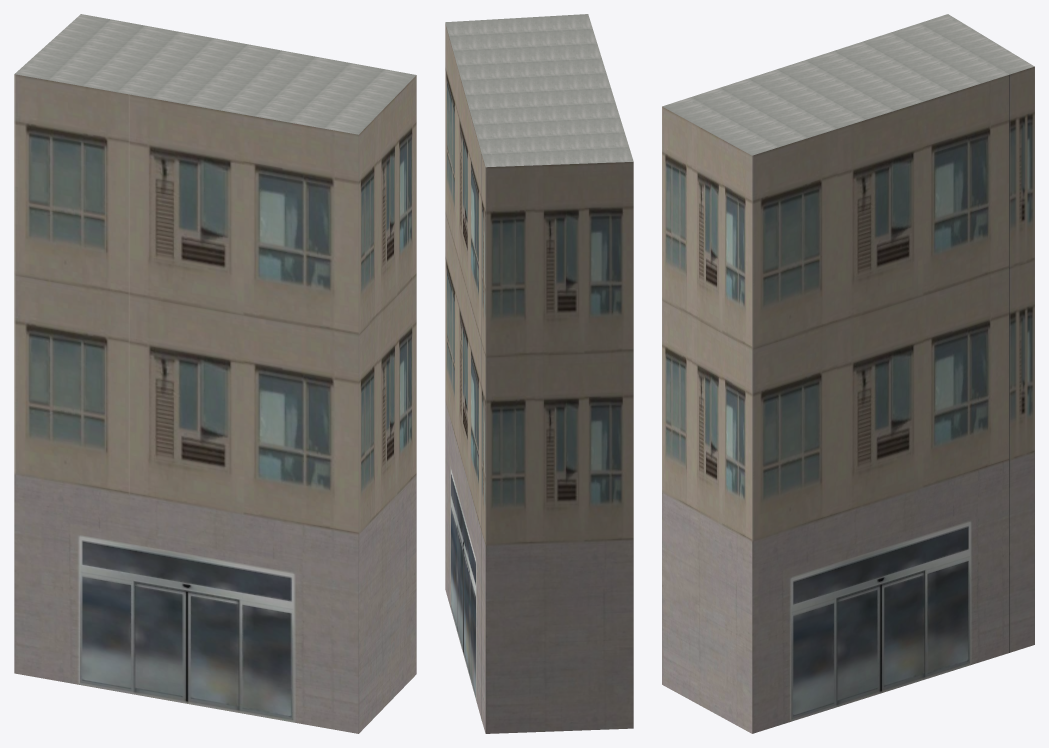
The picture shows the model from 3 angles, left to right: view 1: azimuth 30°, elevation 25°; view 2: azimuth 150°, elevation 25°; view 3: azimuth 270°, elevation 25°; orthographic projection. The views are drawn at different scales.
Visible parts, largest first — view 1: BuildingMaster_0000193648914462200500000000_0, BuildingMaster_0000193648914462200500000000_1; view 2: BuildingMaster_0000193648914462200500000000_0, BuildingMaster_0000193648914462200500000000_1; view 3: BuildingMaster_0000193648914462200500000000_0, BuildingMaster_0000193648914462200500000000_1.
Boxes of the visible parts, x1,y1,x2,y2 form: BuildingMaster_0000193648914462200500000000_0: (14,74,416,733); BuildingMaster_0000193648914462200500000000_1: (14,14,415,134); BuildingMaster_0000193648914462200500000000_0: (445,23,633,733); BuildingMaster_0000193648914462200500000000_1: (445,14,633,167); BuildingMaster_0000193648914462200500000000_0: (662,66,1034,733); BuildingMaster_0000193648914462200500000000_1: (662,14,1034,155).
Size of the model in its own units: 5.52 by 10.5 by 6.13.
Materials: 2 (2 with a texture image).
